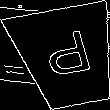P_S: (37, 28, 97, 86)
